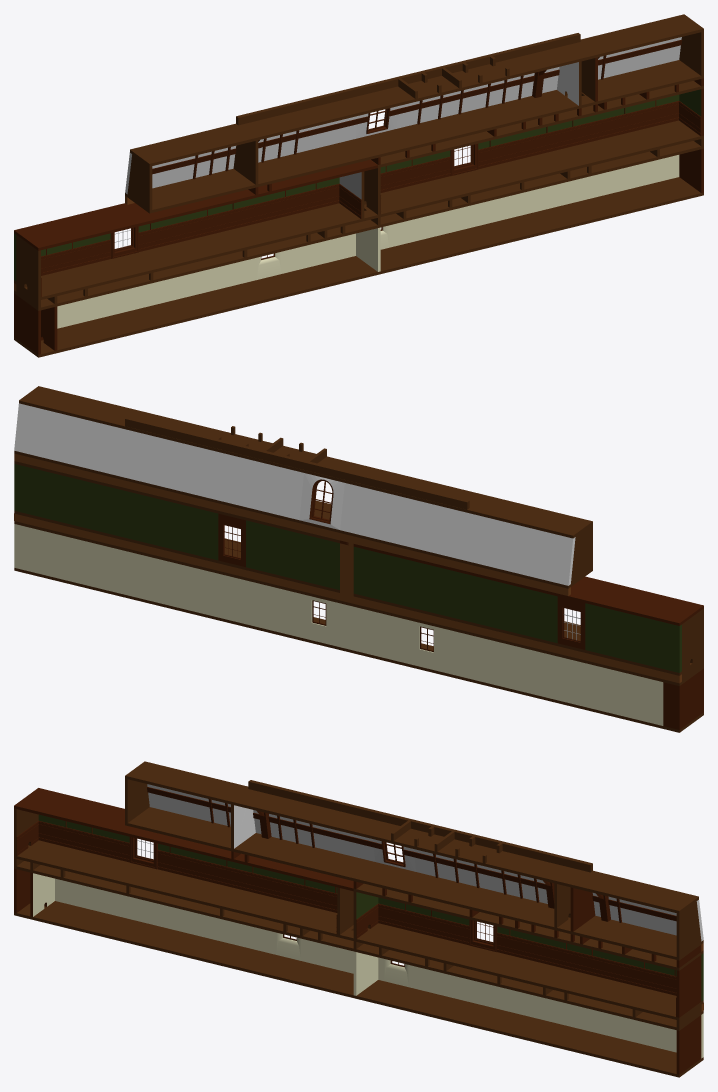
File: Dollhouse_v3.fbx
The picture shows the model from 3 angles, top to bottom: view 1: azimuth 30°, elevation 25°; view 2: azimuth 150°, elevation 25°; view 3: azimuth 330°, elevation 25°; orthographic projection.
Parts seen in each view (by area): view 1: Dollshouse_v2:Atico1CasaAticoTecho, Dollshouse_v2:CasaCocinaHabitacionespCube11, Dollshouse_v2:CasaCocina1HabitacionespCube11, Dollshouse_v2:CasaHabitaciones2HabitacionSuelo, Dollshouse_v2:Atico1CasaAticoSuelo, Dollshouse_v2:CasaHabitaciones1HabitacionSuelo, Dollshouse_v2:CasaCocina1polySurface25HabitacionespCube14, Dollshouse_v2:CasaCocinaHabitacionespCube14polySurface24, Dollshouse_v2:CasaHabitaciones2HabitaciónTecho, Dollshouse_v2:ParedAticoAtico1CasapolySurface32, Dollshouse_v2:CasaHabitaciones2SoporteParedHor_2, Dollshouse_v2:CasaHabitaciones1SoporteParedHor_2 (+24 smaller); view 2: Dollshouse_v2:ParedAticoAtico1CasapolySurface32, Dollshouse_v2:CasaHabitacionParedHabitaciones2polySurface30, Dollshouse_v2:CasaCocinaHabitacionespCube14polySurface24, Dollshouse_v2:CasaHabitacionParedHabitaciones1polySurface28, Dollshouse_v2:CasaCocina1polySurface25HabitacionespCube14, Dollshouse_v2:Atico1CasaAticoTecho, Dollshouse_v2:CasaAtico2ParedAtico2, Dollshouse_v2:CasaAtico3ParedAtico1, Dollshouse_v2:CasaHabitaciones2HabitaciónTecho, Dollshouse_v2:CasaHuecospCube86, Dollshouse_v2:CasaHuecospCube69, Dollshouse_v2:CasaHuecospCube23 (+17 smaller); view 3: Dollshouse_v2:Atico1CasaAticoTecho, Dollshouse_v2:CasaCocina1HabitacionespCube11, Dollshouse_v2:CasaCocinaHabitacionespCube11, Dollshouse_v2:CasaHabitaciones1HabitacionSuelo, Dollshouse_v2:Atico1CasaAticoSuelo, Dollshouse_v2:CasaHabitaciones2HabitacionSuelo, Dollshouse_v2:CasaCocina1polySurface25HabitacionespCube14, Dollshouse_v2:CasaCocinaHabitacionespCube14polySurface24, Dollshouse_v2:CasaHabitaciones2HabitaciónTecho, Dollshouse_v2:ParedAticoAtico1CasapolySurface32, Dollshouse_v2:CasaHabitaciones2SoporteParedHor_2, Dollshouse_v2:CasaHabitaciones1SoporteParedHor_2 (+27 smaller).
Boxes of the visible parts, left/top/right/bottom form: Dollshouse_v2:Atico1CasaAticoTecho: left=130, top=14, right=703, bottom=166; Dollshouse_v2:CasaCocinaHabitacionespCube11: left=41, top=256, right=380, bottom=353; Dollshouse_v2:CasaCocina1HabitacionespCube11: left=380, top=177, right=703, bottom=273; Dollshouse_v2:CasaHabitaciones2HabitacionSuelo: left=14, top=203, right=364, bottom=300; Dollshouse_v2:Atico1CasaAticoSuelo: left=255, top=90, right=581, bottom=187; Dollshouse_v2:CasaHabitaciones1HabitacionSuelo: left=364, top=120, right=703, bottom=217; Dollshouse_v2:CasaCocina1polySurface25HabitacionespCube14: left=380, top=155, right=679, bottom=249; Dollshouse_v2:CasaCocinaHabitacionespCube14polySurface24: left=57, top=233, right=355, bottom=328; Dollshouse_v2:CasaHabitaciones2HabitaciónTecho: left=14, top=159, right=377, bottom=250; Dollshouse_v2:ParedAticoAtico1CasapolySurface32: left=258, top=67, right=559, bottom=162; Dollshouse_v2:CasaHabitaciones2SoporteParedHor_2: left=138, top=183, right=339, bottom=251; Dollshouse_v2:CasaHabitaciones1SoporteParedHor_2: left=478, top=101, right=678, bottom=169; Dollshouse_v2:ParedAticoAtico1CasapolySurface32: left=136, top=433, right=466, bottom=559; Dollshouse_v2:CasaHabitacionParedHabitaciones2polySurface30: left=353, top=547, right=681, bottom=672; Dollshouse_v2:CasaCocinaHabitacionespCube14polySurface24: left=337, top=602, right=663, bottom=725; Dollshouse_v2:CasaHabitacionParedHabitaciones1polySurface28: left=14, top=464, right=339, bottom=589; Dollshouse_v2:CasaCocina1polySurface25HabitacionespCube14: left=14, top=524, right=337, bottom=646; Dollshouse_v2:Atico1CasaAticoTecho: left=19, top=386, right=592, bottom=538; Dollshouse_v2:CasaAtico2ParedAtico2: left=14, top=403, right=141, bottom=480; Dollshouse_v2:CasaAtico3ParedAtico1: left=462, top=512, right=575, bottom=585; Dollshouse_v2:CasaHabitaciones2HabitaciónTecho: left=340, top=540, right=703, bottom=625; Dollshouse_v2:CasaHuecospCube86: left=125, top=417, right=469, bottom=509; Dollshouse_v2:CasaHuecospCube69: left=340, top=593, right=681, bottom=683; Dollshouse_v2:CasaHuecospCube23: left=14, top=453, right=339, bottom=540; Dollshouse_v2:Atico1CasaAticoTecho: left=125, top=761, right=698, bottom=913; Dollshouse_v2:CasaCocina1HabitacionespCube11: left=356, top=980, right=703, bottom=1077; Dollshouse_v2:CasaCocinaHabitacionespCube11: left=30, top=901, right=356, bottom=998; Dollshouse_v2:CasaHabitaciones1HabitacionSuelo: left=353, top=923, right=703, bottom=1020; Dollshouse_v2:Atico1CasaAticoSuelo: left=231, top=833, right=570, bottom=930; Dollshouse_v2:CasaHabitaciones2HabitacionSuelo: left=14, top=840, right=339, bottom=937; Dollshouse_v2:CasaCocina1polySurface25HabitacionespCube14: left=378, top=957, right=703, bottom=1058; Dollshouse_v2:CasaCocinaHabitacionespCube14polySurface24: left=55, top=878, right=353, bottom=973; Dollshouse_v2:CasaHabitaciones2HabitaciónTecho: left=14, top=788, right=353, bottom=891; Dollshouse_v2:ParedAticoAtico1CasapolySurface32: left=253, top=810, right=547, bottom=903; Dollshouse_v2:CasaHabitaciones2SoporteParedHor_2: left=157, top=850, right=337, bottom=912; Dollshouse_v2:CasaHabitaciones1SoporteParedHor_2: left=497, top=932, right=676, bottom=995.
Bounding box in the file's own units: 49016 × 12250 × 3113.
